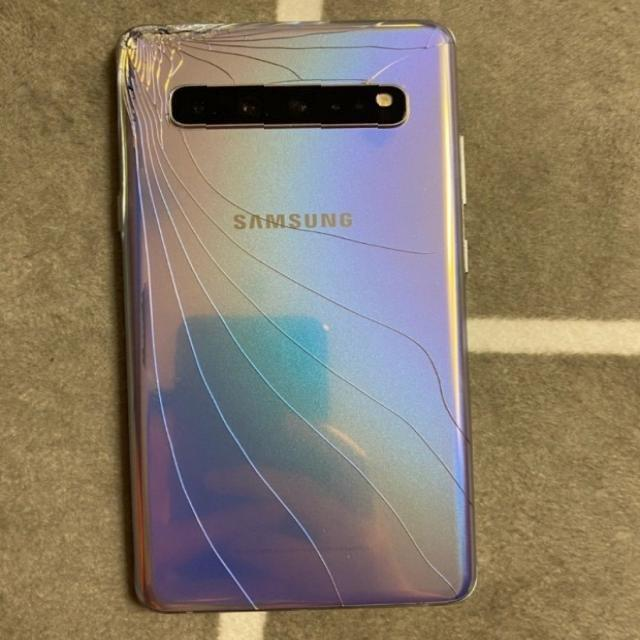Mobile: (112, 18, 478, 615)
